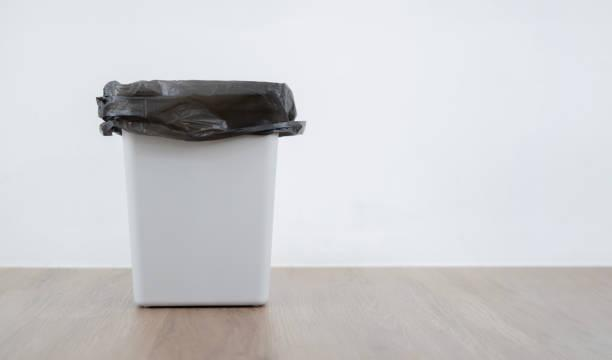garbage container: (93, 76, 311, 314)
